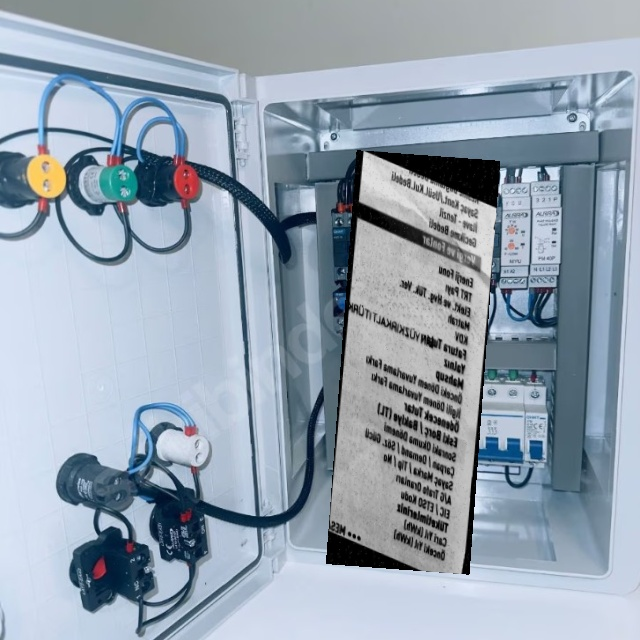electricity-bill: (325, 150, 499, 574)
